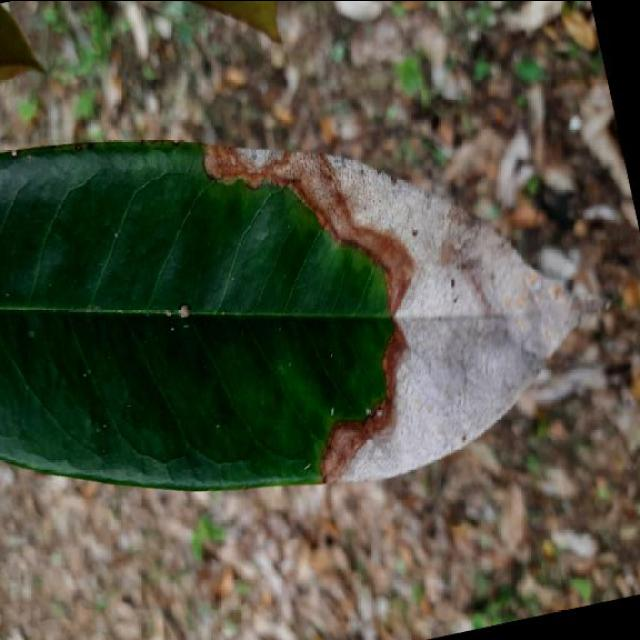Leaf Blight: (0, 34, 620, 574)
